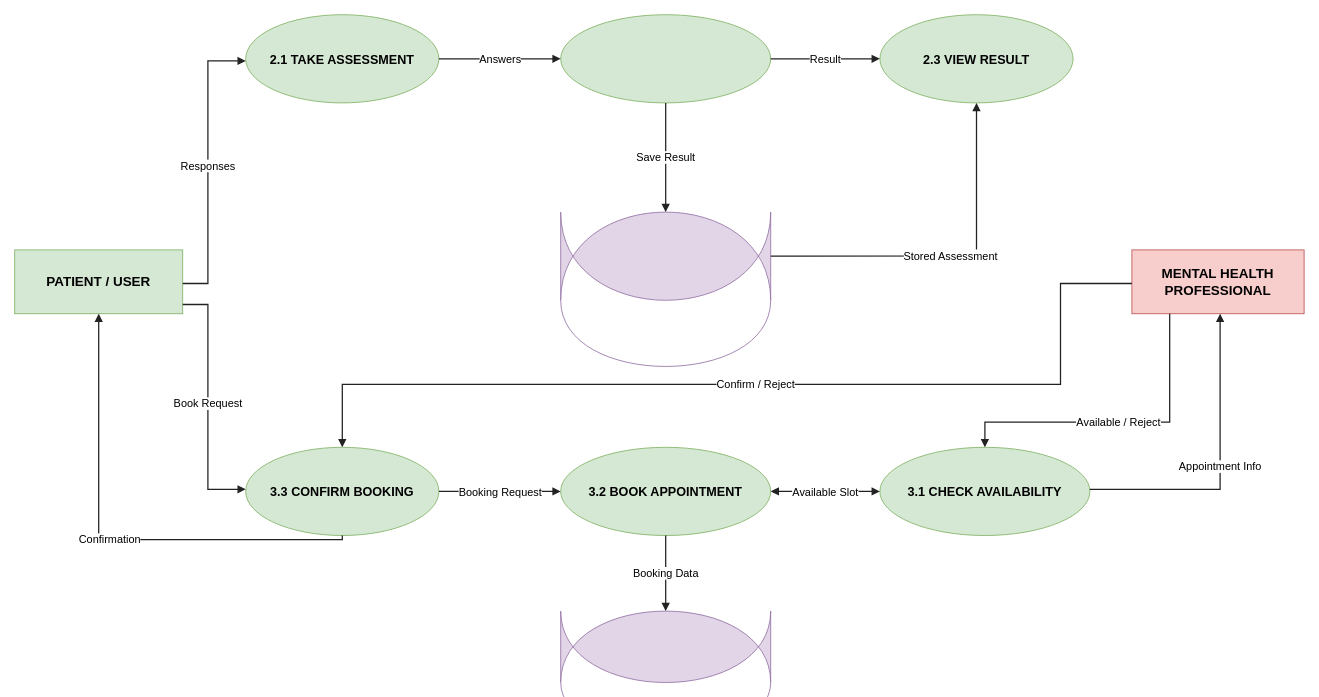
This 1319x697 diagram has some shape labels left out. The box of each missing label's shape, as (x1, y1, x2, y2) in pixels:
2.2 CALCULATE RESULT: (560, 14, 771, 103)
D2 ASSESSMENT DATA: (560, 211, 771, 300)
D3 APPOINTMENT DATA: (560, 610, 771, 682)
